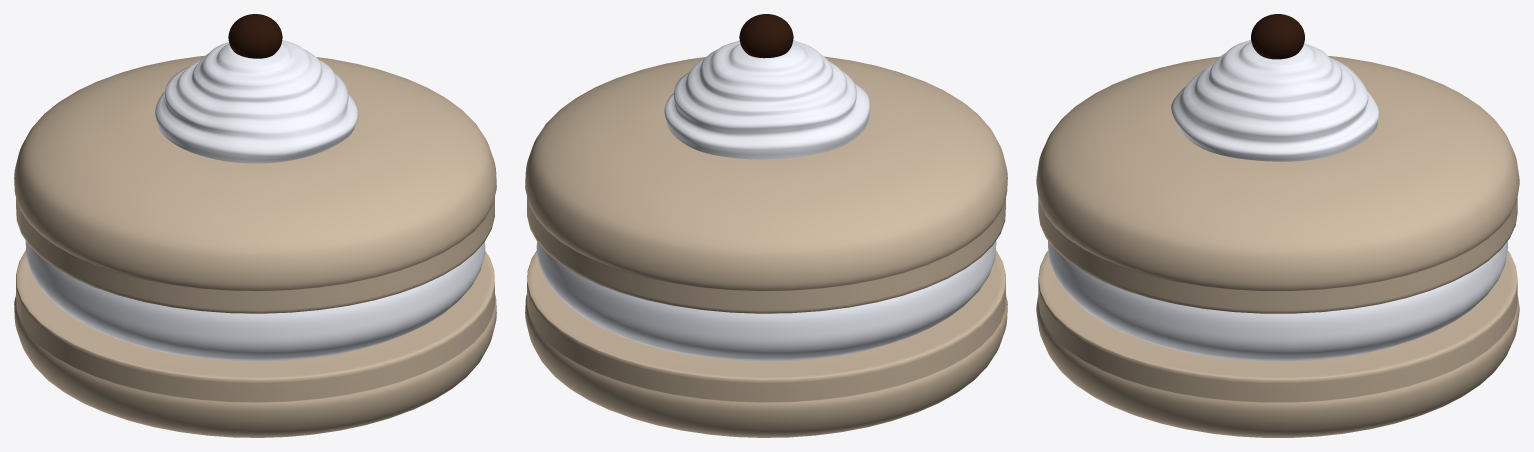
The model's file is Macaron.fbx.
The picture shows the model from 3 angles, left to right: view 1: azimuth 30°, elevation 25°; view 2: azimuth 150°, elevation 25°; view 3: azimuth 270°, elevation 25°; orthographic projection.
Visible parts, largest first — view 1: Macaron, Cream, Cake, Sphere; view 2: Macaron, Cream, Cake, Sphere; view 3: Macaron, Cream, Cake, Sphere.
Boxes of the visible parts, box(x1,y1,x2,y2) form: Macaron: box(14, 55, 496, 437); Cream: box(25, 241, 485, 361); Cake: box(155, 40, 358, 163); Sphere: box(228, 14, 282, 58); Macaron: box(525, 56, 1007, 437); Cream: box(536, 241, 996, 361); Cake: box(664, 40, 870, 159); Sphere: box(739, 14, 793, 58); Macaron: box(1036, 56, 1519, 437); Cream: box(1048, 241, 1507, 361); Cake: box(1171, 40, 1379, 161); Sphere: box(1251, 14, 1304, 59).
Bounding box in the file's own units: 8.21 × 6.7 × 8.22.
